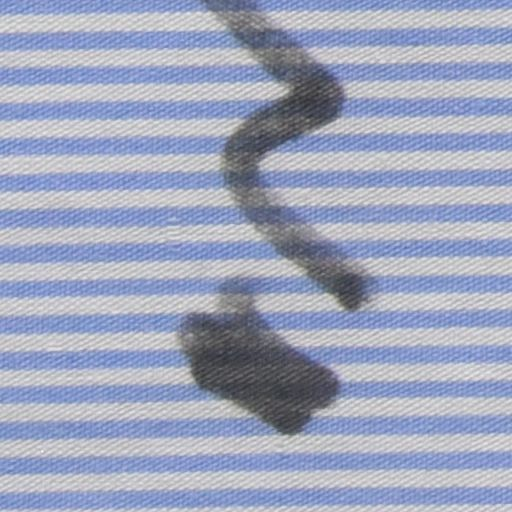defect: (204, 1, 375, 300), (186, 271, 328, 429)
